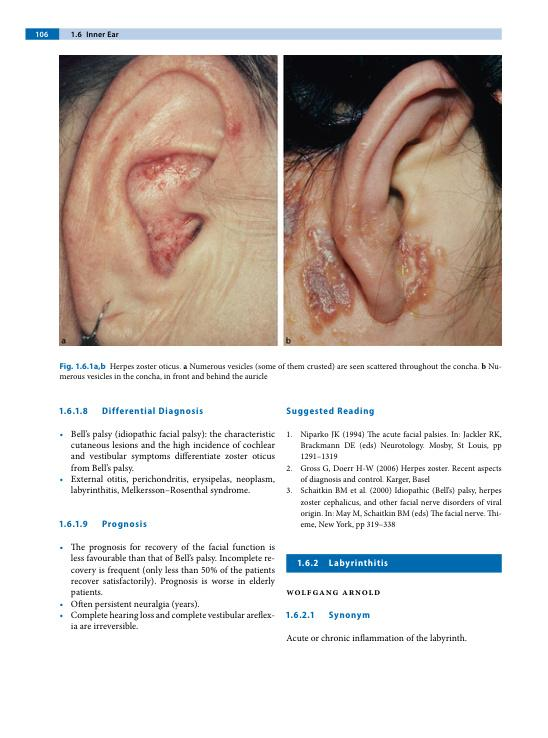caption: (58, 361, 502, 382), (285, 336, 292, 345), (60, 338, 67, 345)
header: (85, 30, 120, 38)
image: (282, 55, 502, 346), (59, 55, 278, 346)
list: (285, 429, 502, 530), (58, 541, 277, 631), (58, 428, 277, 498)
section-heading: (328, 558, 389, 570)
sub-section-heading: (101, 406, 204, 418), (285, 405, 376, 417), (327, 609, 371, 621), (101, 519, 148, 530)
text: (286, 634, 467, 645)
